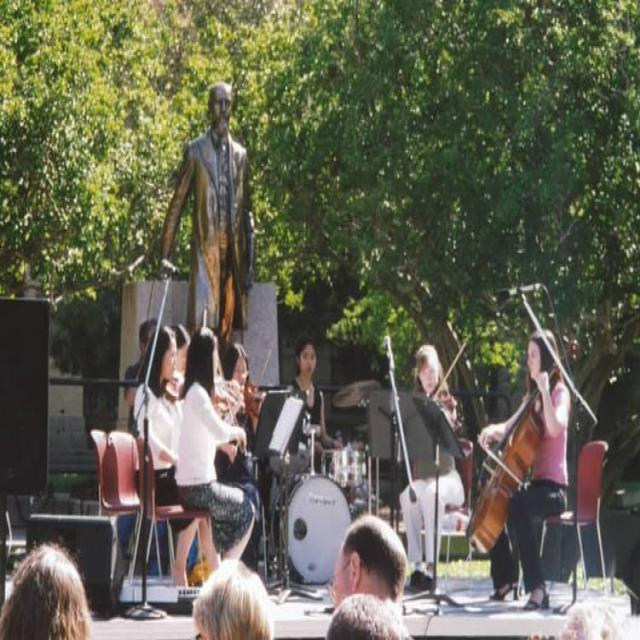cello: (468, 365, 563, 555)
drums: (272, 382, 385, 584)
violin: (242, 382, 266, 414), (214, 382, 244, 407), (436, 390, 458, 416)
